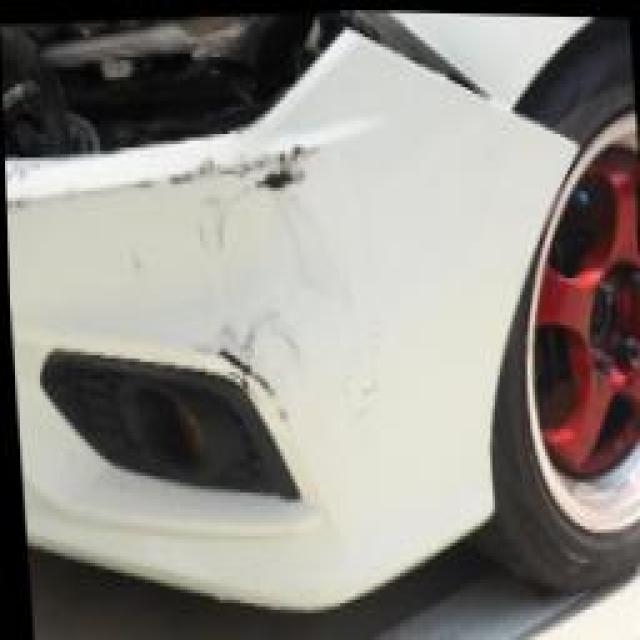Bumper: (1, 7, 577, 617)
